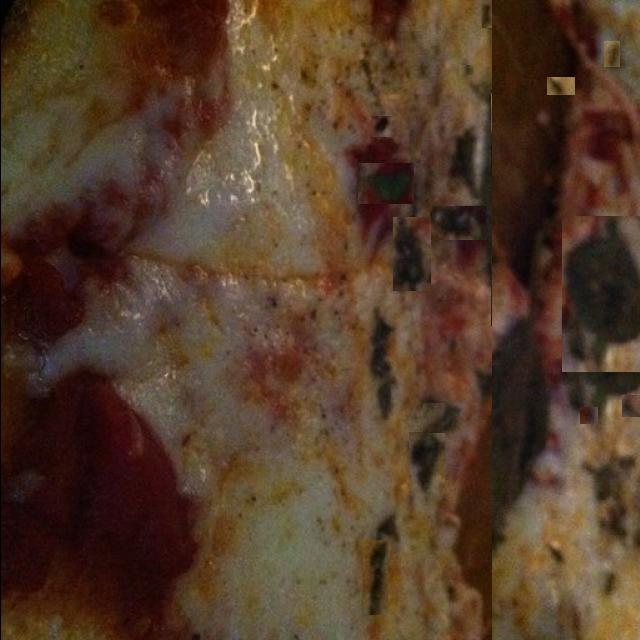basil: (490, 93, 551, 326), (561, 216, 640, 372), (392, 217, 430, 291), (373, 308, 398, 420), (357, 163, 413, 204), (452, 124, 482, 199), (408, 432, 444, 493), (429, 206, 486, 240), (362, 540, 387, 615), (582, 137, 622, 177), (422, 403, 464, 433), (599, 100, 629, 134), (471, 373, 498, 398), (376, 518, 401, 542), (546, 77, 574, 95), (621, 395, 640, 417), (603, 41, 619, 67), (371, 116, 390, 137), (579, 407, 597, 424), (481, 6, 491, 28), (458, 65, 473, 75), (420, 62, 427, 78)
pizza: (0, 0, 530, 640), (491, 0, 640, 640)
